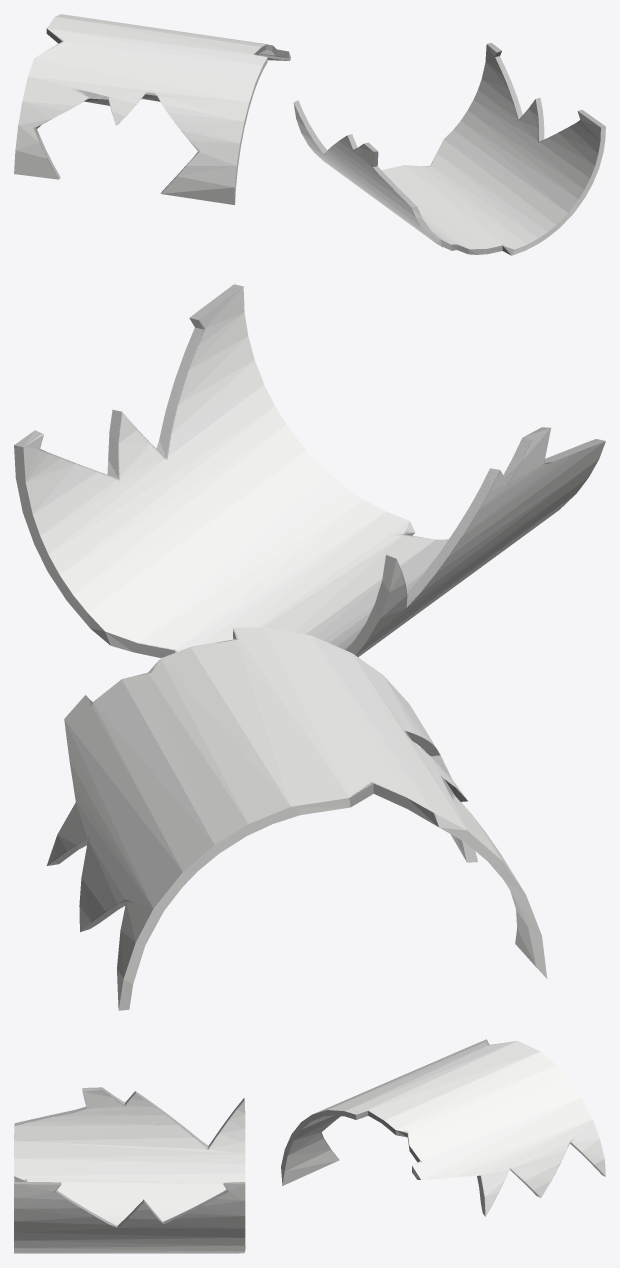
Rendered from scherbenGross.glb.
The picture shows the model from 3 angles, top to bottom: view 1: azimuth 30°, elevation 25°; view 2: azimuth 150°, elevation 25°; view 3: azimuth 270°, elevation 25°; orthographic projection. The views are drawn at different scales.
Parts seen in each view (by area): view 1: 300586_23_06_15_12_26_54_2, 300586_23_06_15_12_26_54_1; view 2: 300586_23_06_15_12_26_54_2, 300586_23_06_15_12_26_54_1; view 3: 300586_23_06_15_12_26_54_2, 300586_23_06_15_12_26_54_1.
Part boxes in pixels (x1=…): 300586_23_06_15_12_26_54_2: x1=293, y1=42, x2=605, y2=255; 300586_23_06_15_12_26_54_1: x1=14, y1=14, x2=290, y2=204; 300586_23_06_15_12_26_54_2: x1=14, y1=284, x2=605, y2=657; 300586_23_06_15_12_26_54_1: x1=46, y1=627, x2=547, y2=1010; 300586_23_06_15_12_26_54_2: x1=14, y1=1087, x2=245, y2=1253; 300586_23_06_15_12_26_54_1: x1=281, y1=1039, x2=605, y2=1216.
Size of the model in its own units: 9.42 by 2.81 by 12.67.
Materials: 2 (2 with a texture image).
